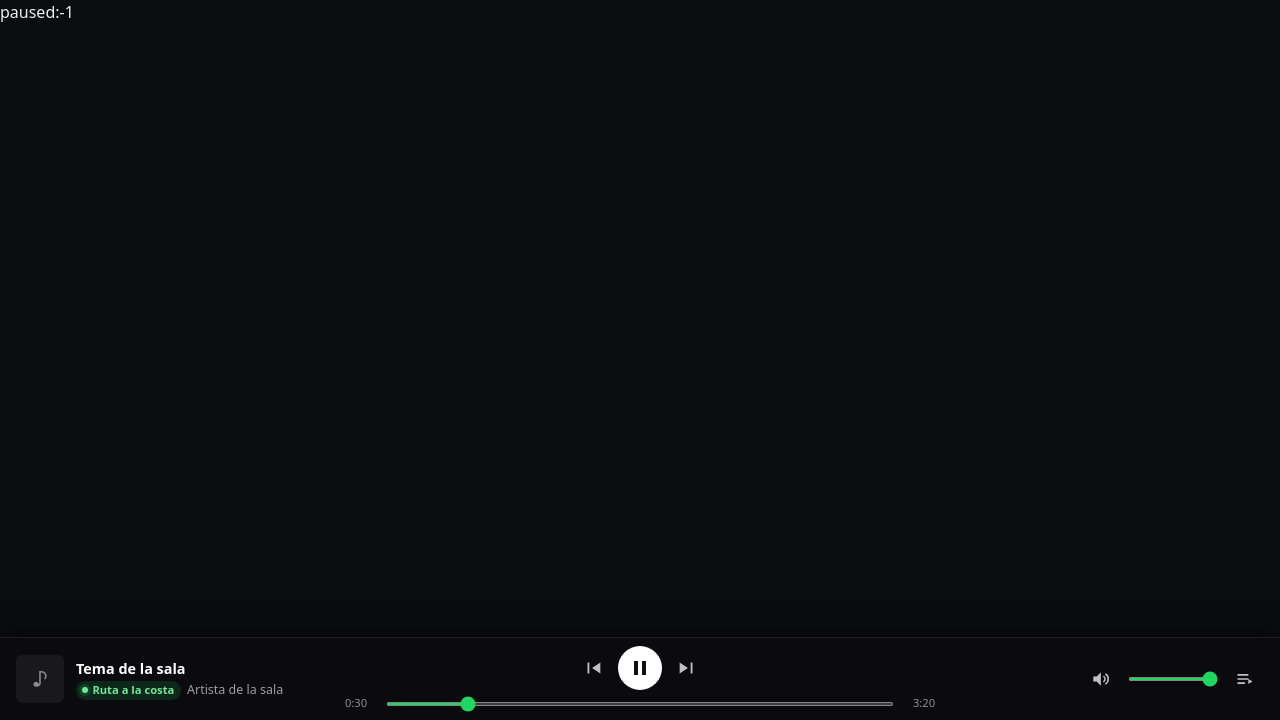
it: NowPlayingBar — a transport command that does not land › reports a jump the room refused, through the same notice
Click the button named "Cola de Ruta a la costa" at {"x": 1245, "y": 679}, box [1226,660,1264,698]
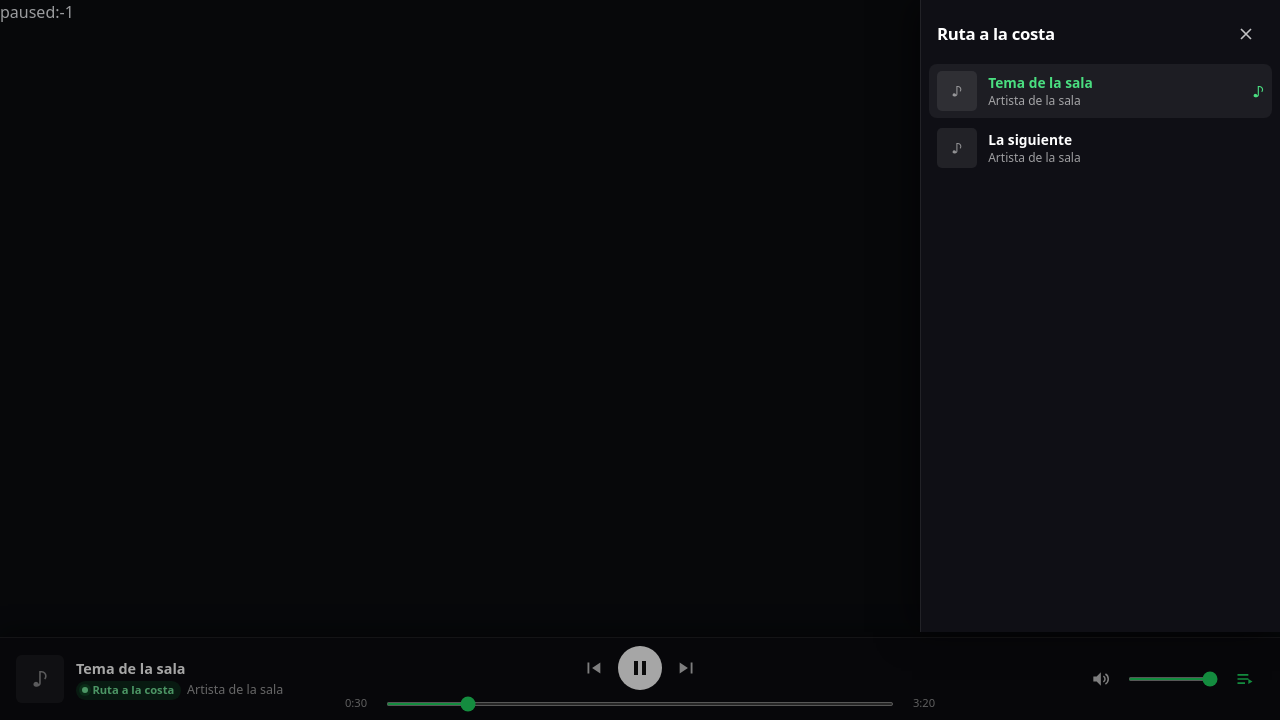
Click the button with aria-label "Reproducir La siguiente en la sala" at {"x": 957, "y": 148}, box [929,121,1272,175]
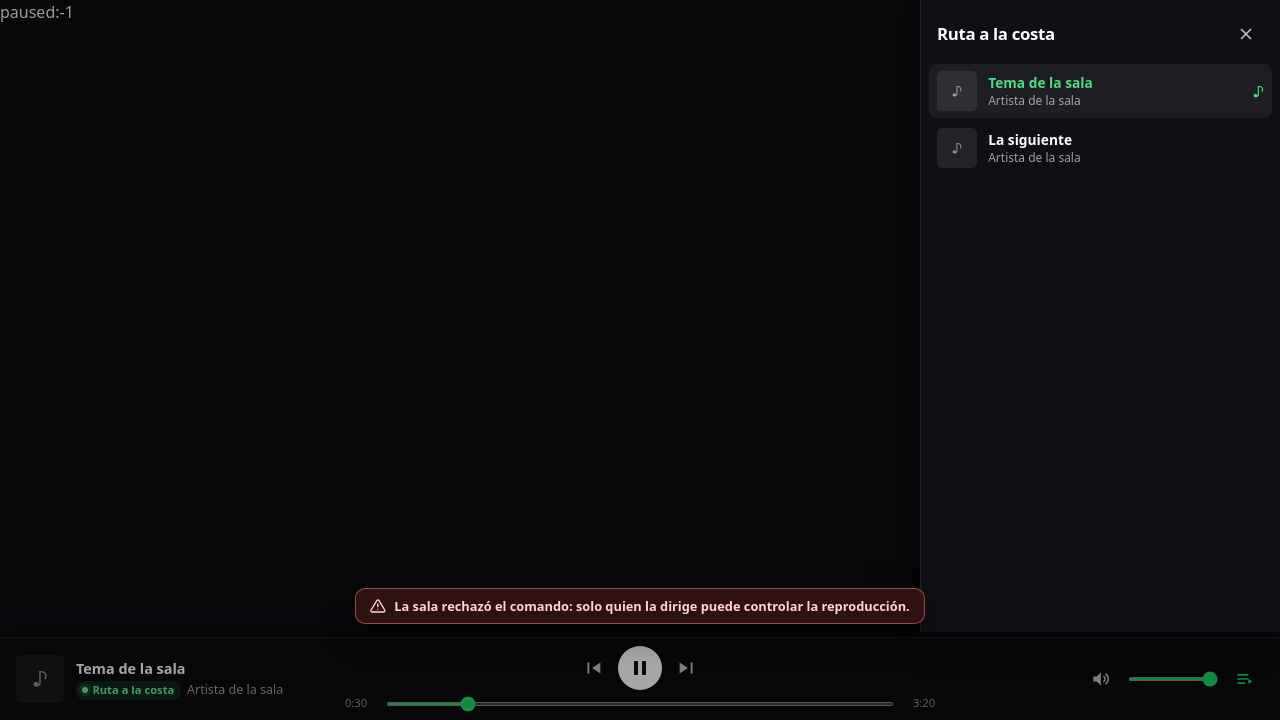
Check: the message shows "solo quien la dirige", box [394,597,910,615]
